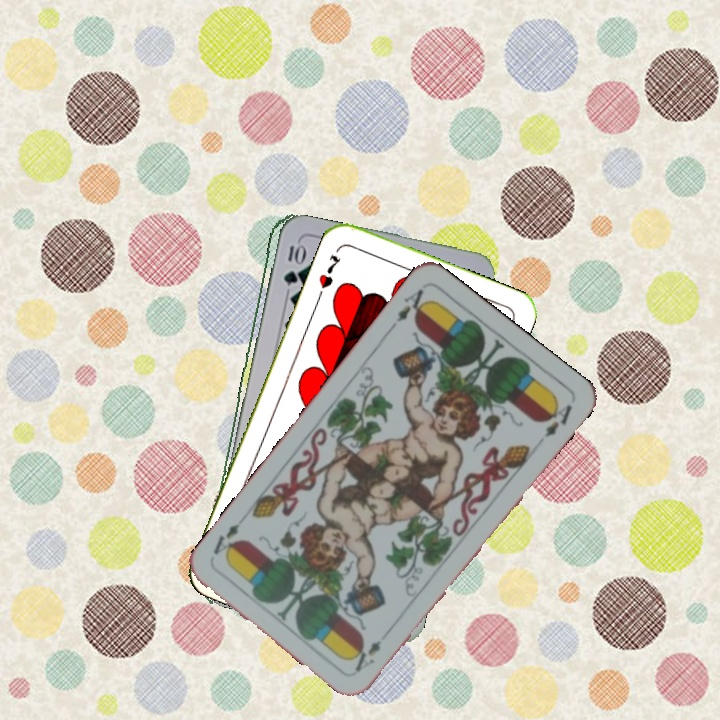EA: (385, 284, 433, 333), (350, 625, 393, 675)
G10: (279, 240, 303, 288)
H7: (314, 251, 344, 291)
